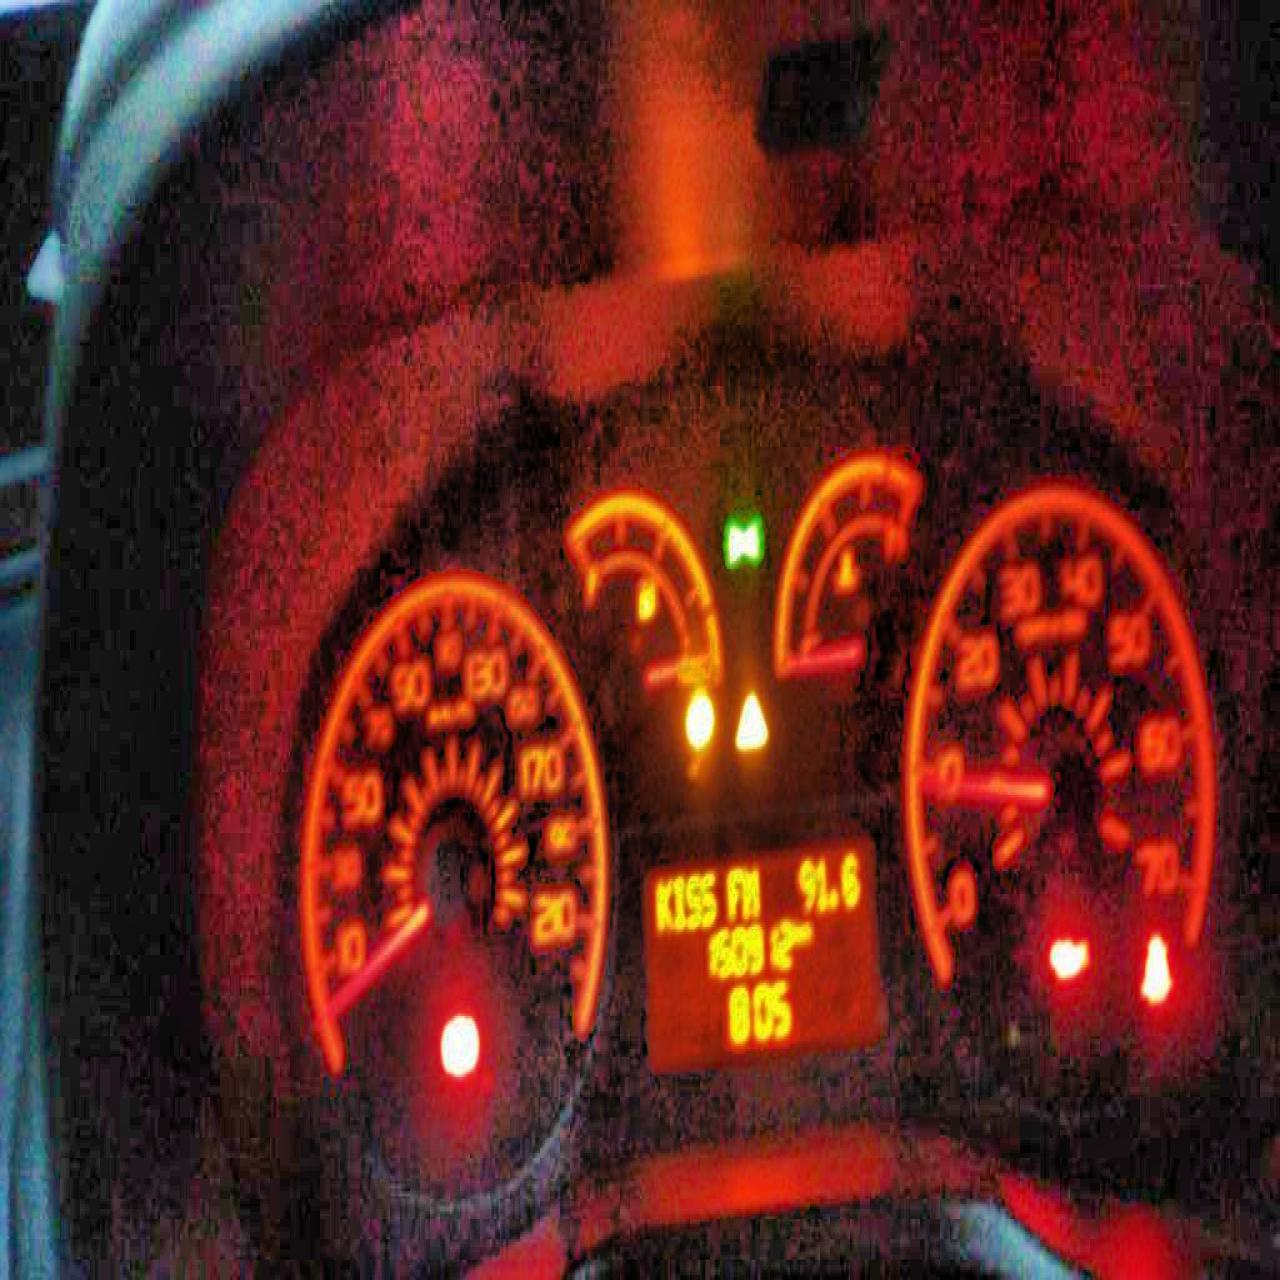-: (828, 881, 837, 908)
0: (750, 980, 770, 1039), (730, 921, 748, 975)
1: (816, 851, 826, 914), (704, 932, 716, 978), (769, 919, 777, 971)
2: (778, 917, 792, 971)
5: (772, 975, 792, 1047), (716, 925, 730, 978)
6: (840, 845, 862, 912)
8: (728, 980, 750, 1047)
9: (797, 853, 815, 917), (749, 921, 765, 975)
X: (742, 864, 763, 919), (700, 869, 717, 927), (723, 866, 742, 917), (654, 879, 672, 932), (685, 871, 700, 930), (673, 878, 686, 930)
odometer: (634, 818, 891, 1080)
